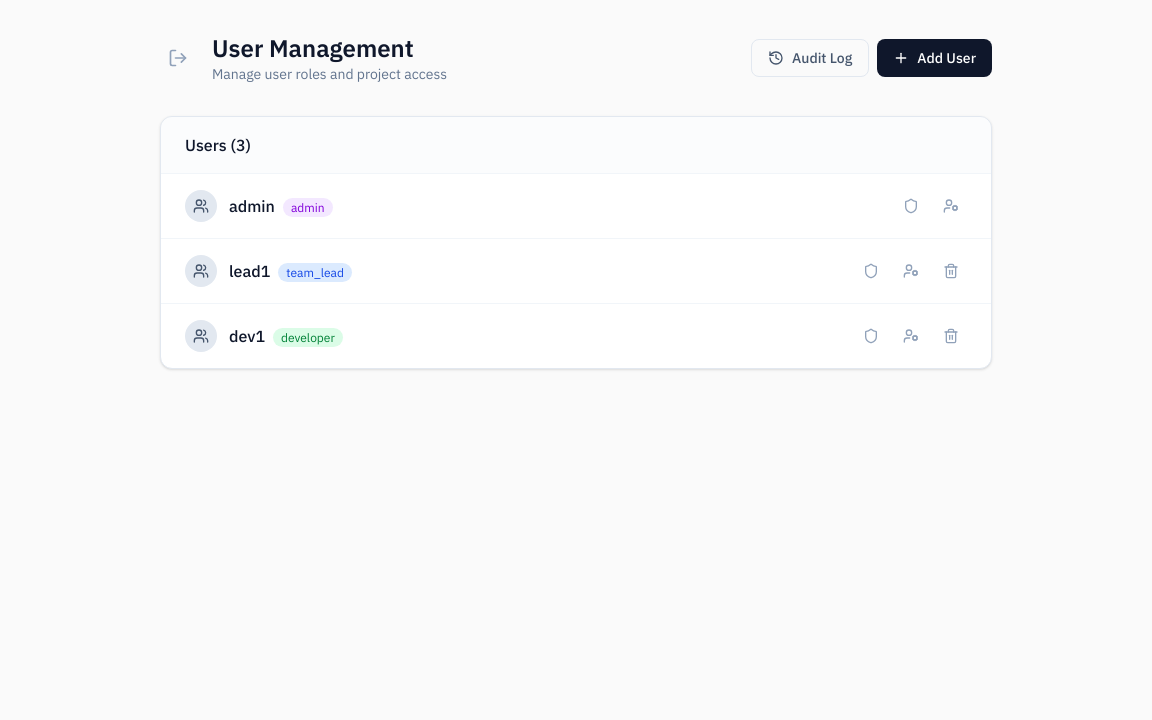
Scenario: UserManagementPage › opens the delete confirmation modal when Delete is clicked
Expected: the text "lead1" is shown, [229,261,270,281]
Click the button named "Delete user lead1".
click(951, 271)  # box [935,255,967,287]
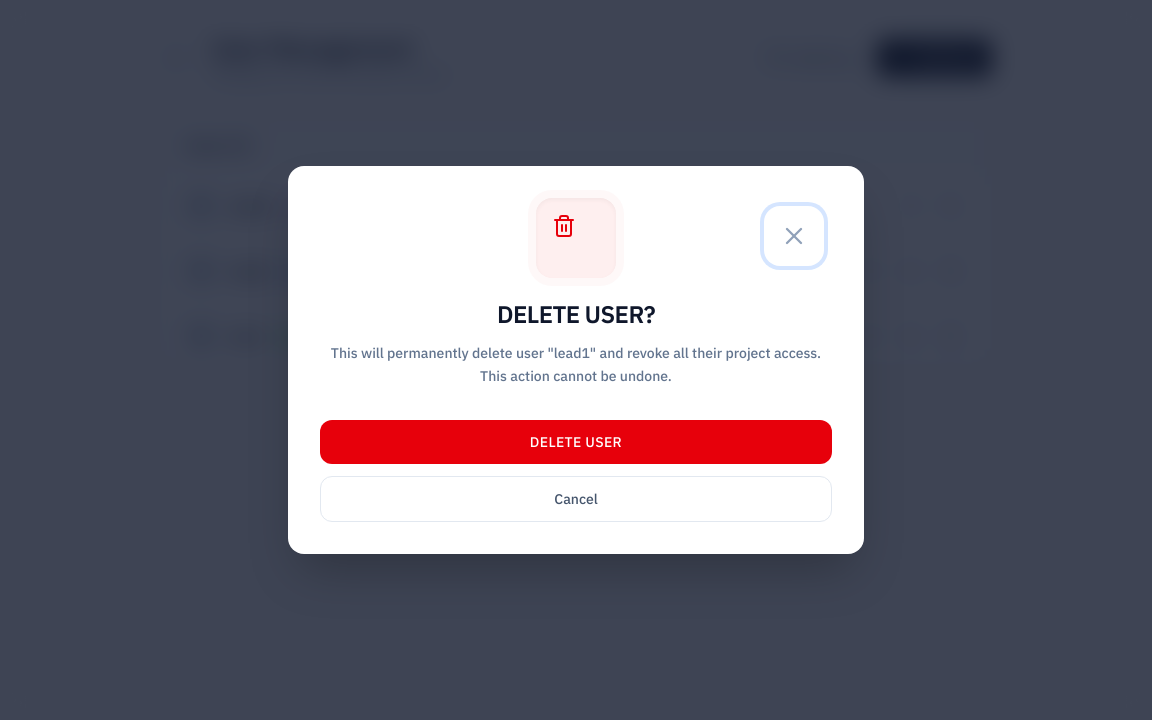
Now the heading "Delete User?" is shown, box [497,302,655,326]
Now the text "lead1" is shown, box [331,344,821,385]
